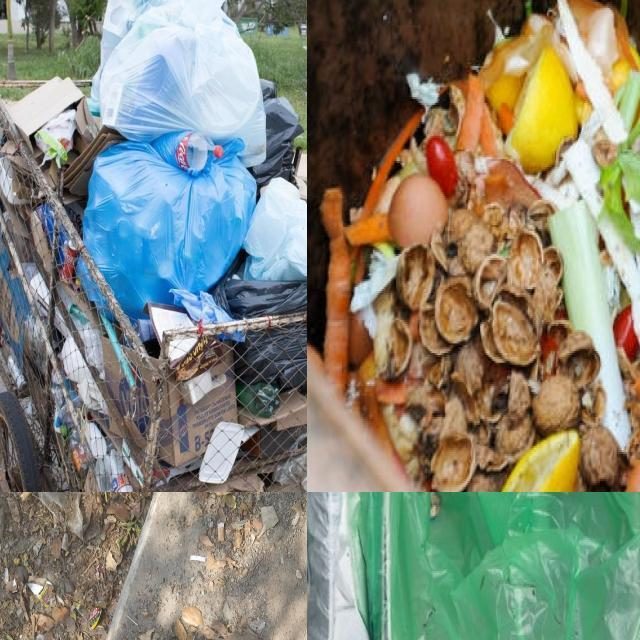Background: (0, 492, 307, 640)
Cig_bud: (217, 522, 225, 542), (20, 492, 31, 501)
Disposable: (198, 421, 245, 483)
Garbage: (321, 0, 640, 492), (0, 0, 307, 492)
Plastic: (39, 492, 102, 542)
Plastic_Bag: (83, 141, 257, 319), (92, 0, 266, 167), (243, 177, 307, 281), (235, 323, 307, 389), (215, 277, 307, 318), (35, 110, 77, 167)
Plastic_bottle: (249, 97, 303, 187), (152, 131, 224, 175), (237, 383, 280, 418), (103, 448, 133, 492)
Plastic_wraper: (39, 583, 56, 606), (88, 608, 102, 628)
can: (60, 241, 78, 283)
